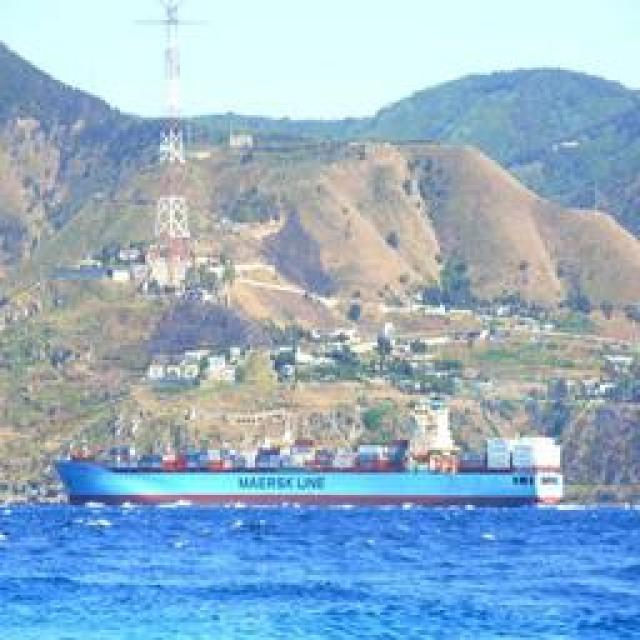Ship: (60, 453, 563, 508)
